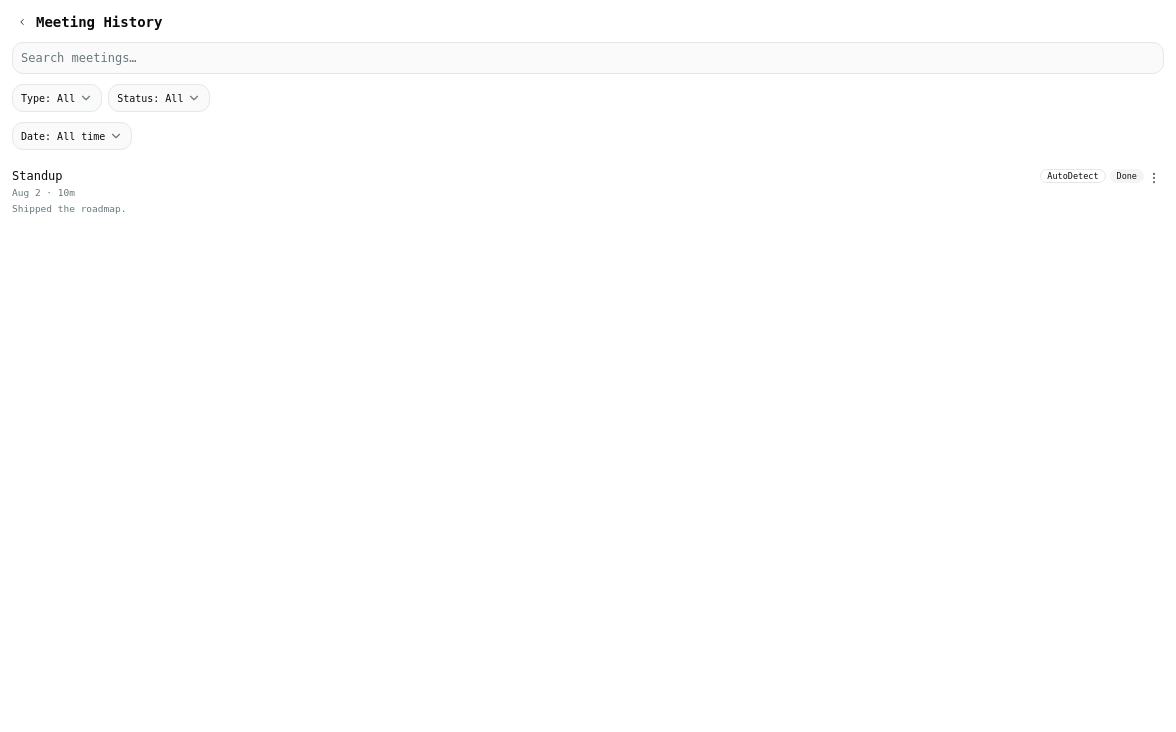
it: MeetingHistory › Reveal in file manager › shows an error toast when revealInFileManager fails
Check: the text "Standup" is shown, box [12,168,63,184]
Click the button named "actions". click: coordinates (1154, 178)
box: [1144,168,1164,188]
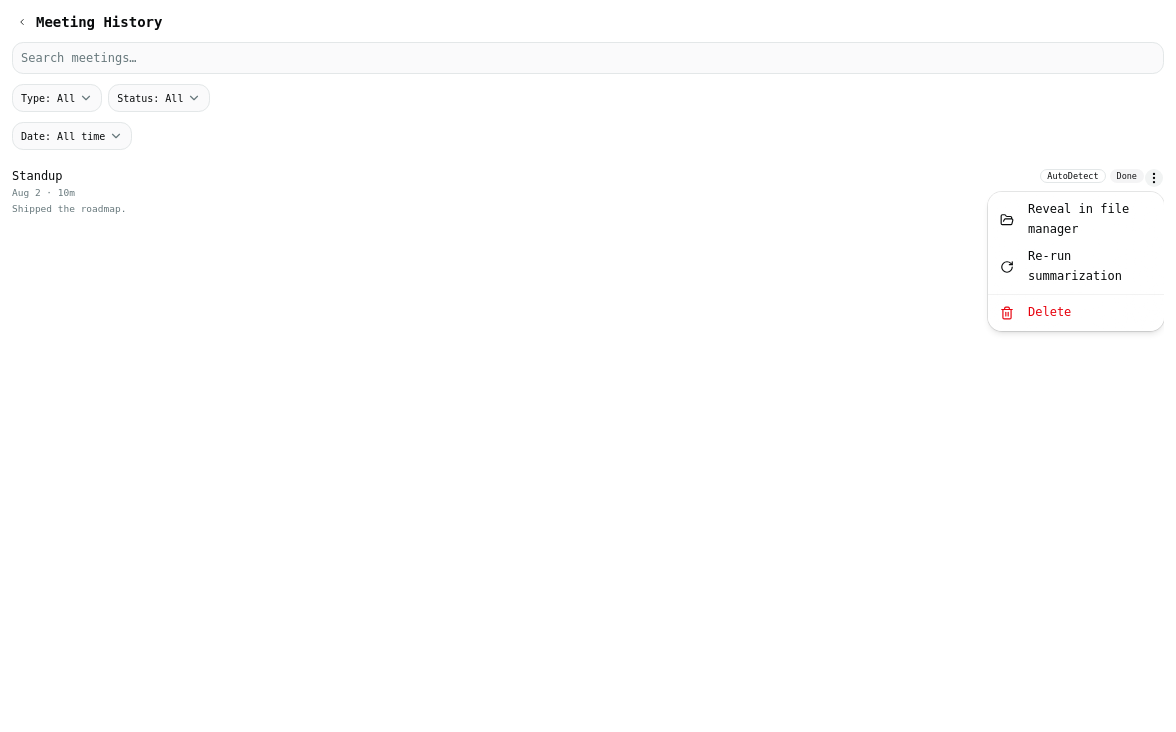
Click the menu item "Reveal in file manager". click: coordinates (1065, 219)
box: [1000,202,1129,236]
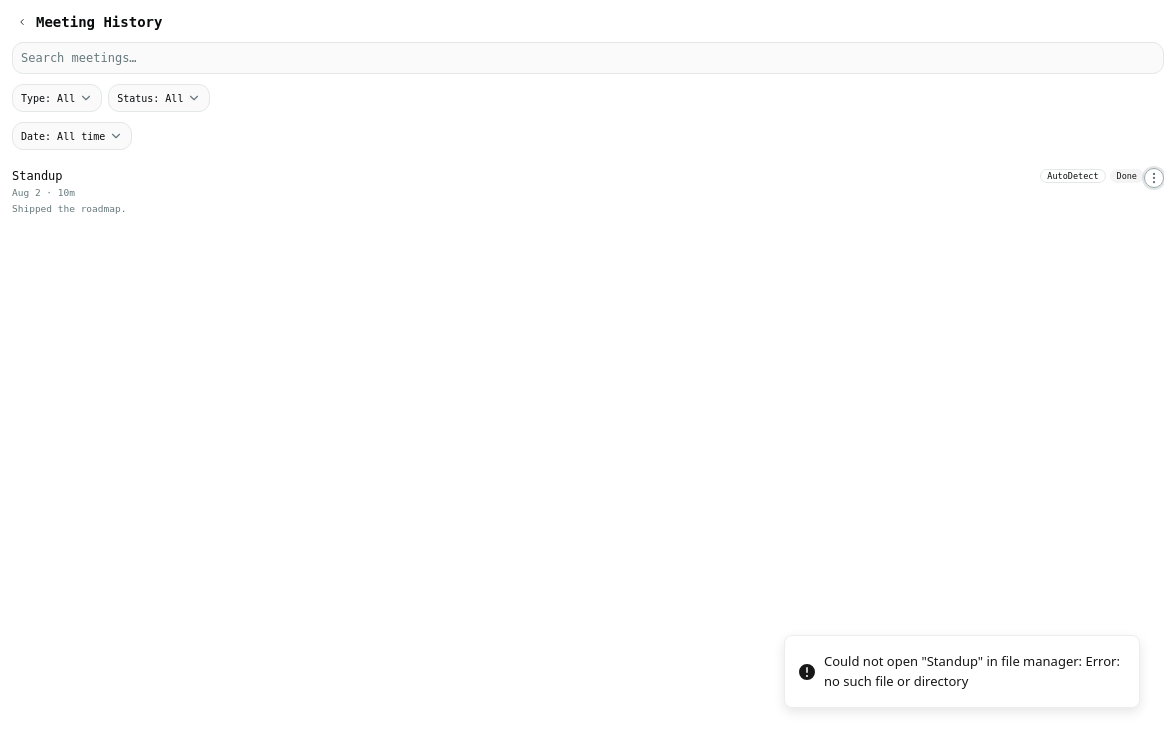
Check: the text "Could not open \"Standup\" in file manager" is shown, box [824,652,1120,690]
